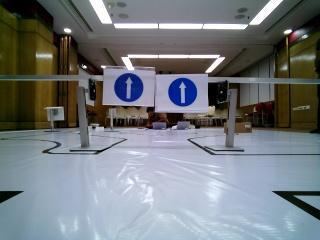straight: (102, 66, 156, 104), (156, 76, 208, 112)
